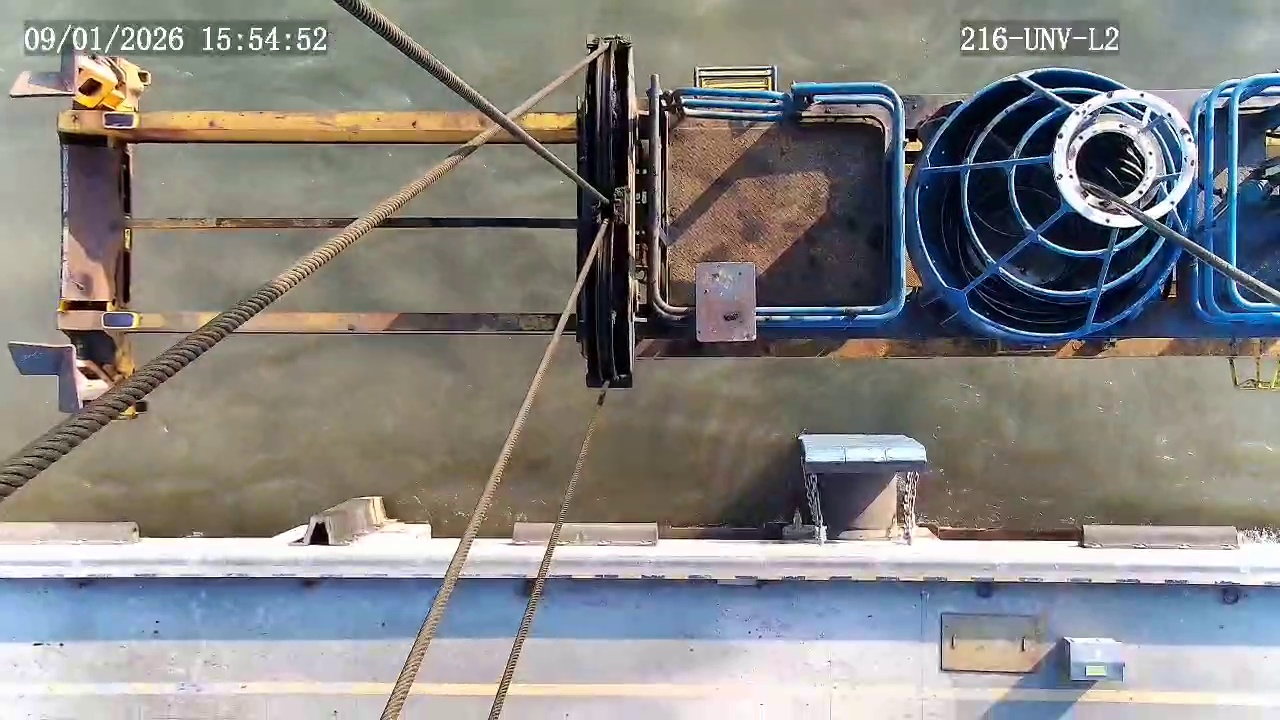left: (1049, 88, 1199, 229)
